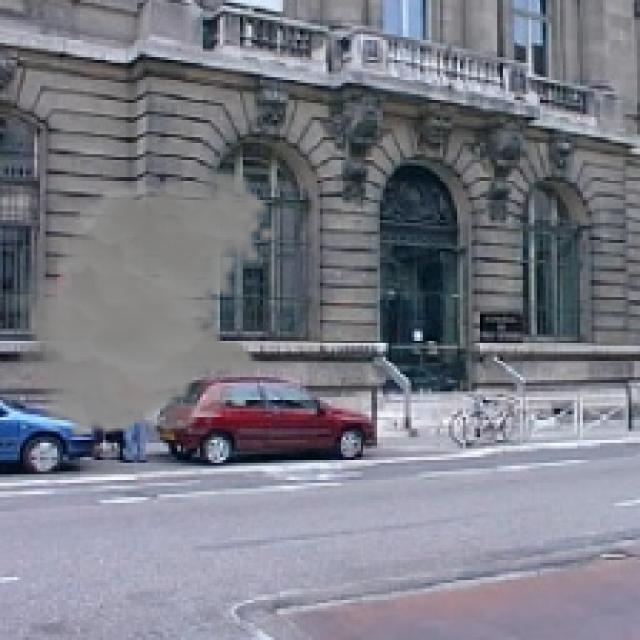smoke: (3, 171, 277, 440)
